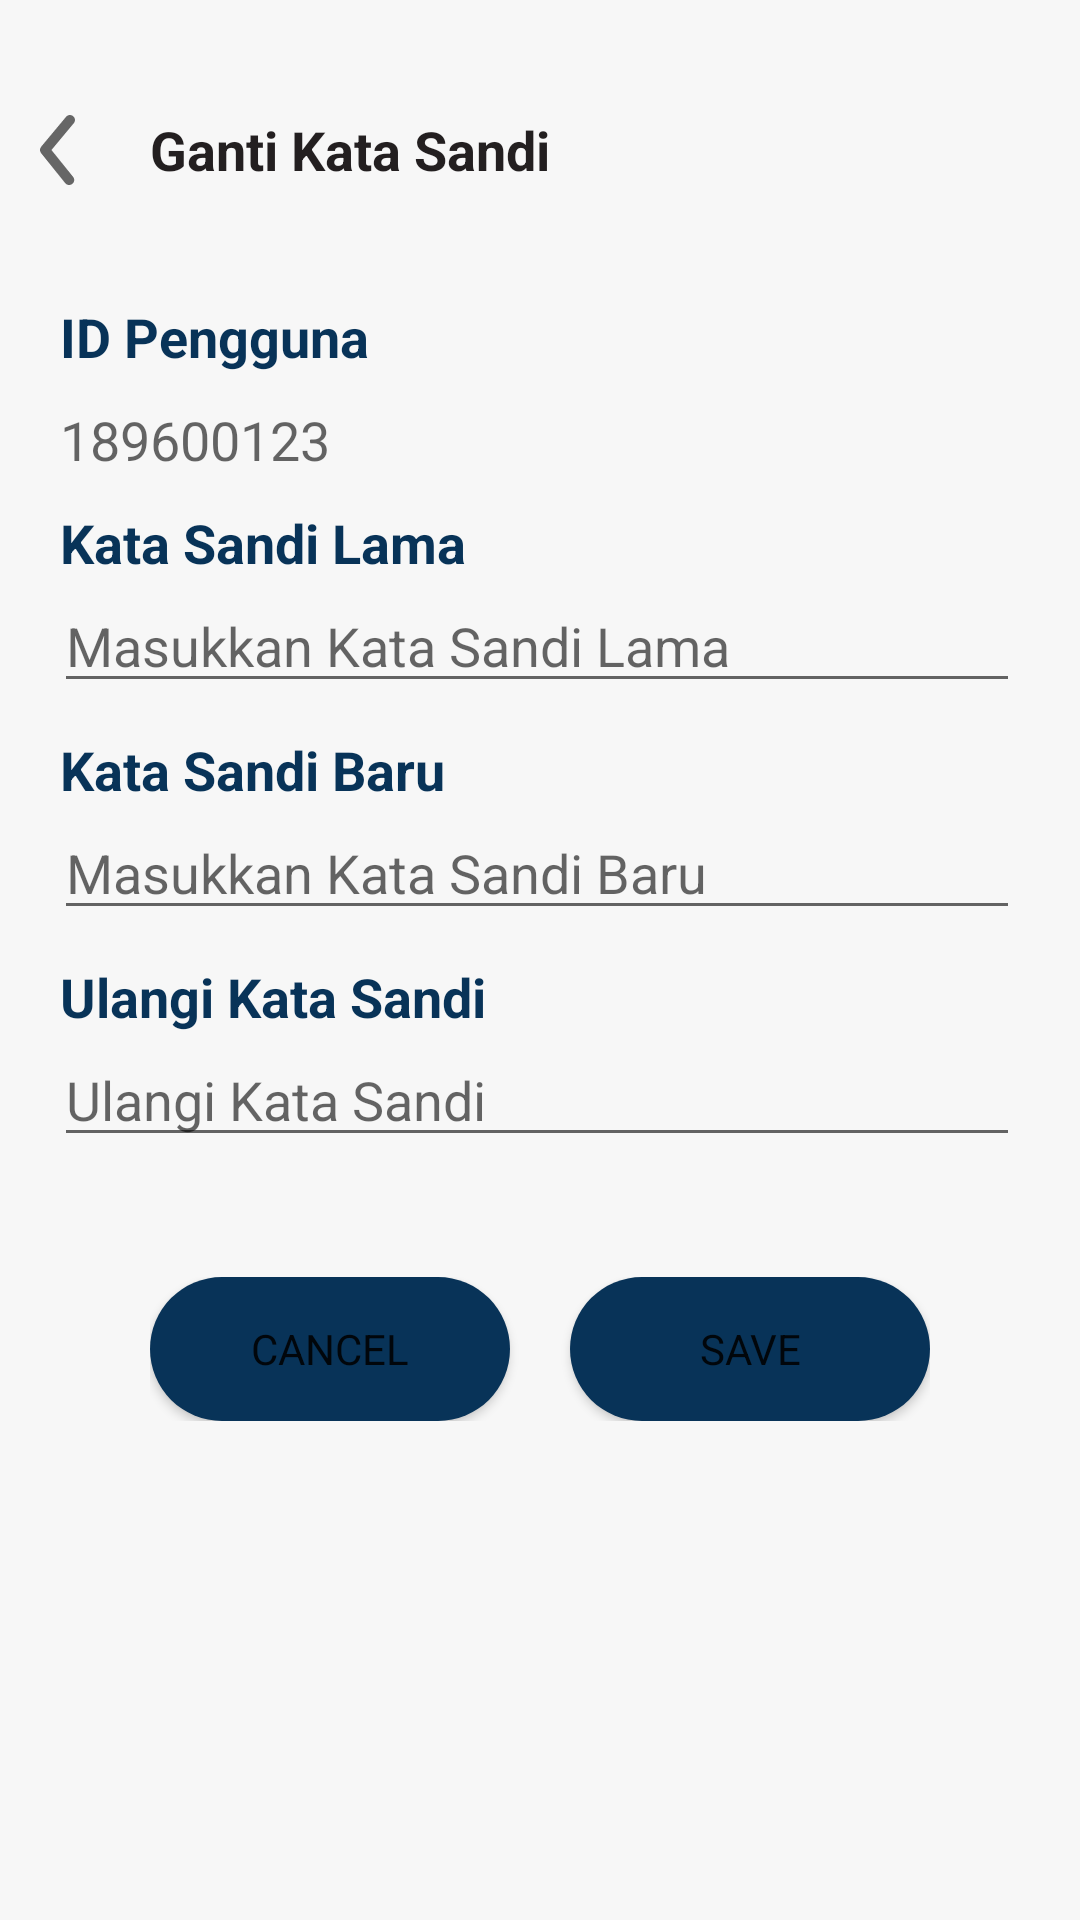

Locate icon controls on the screen. Image size 1080px x 1920px, boxes as (x1, y1, x2, y2).
back arrow: (40, 115, 75, 185)
